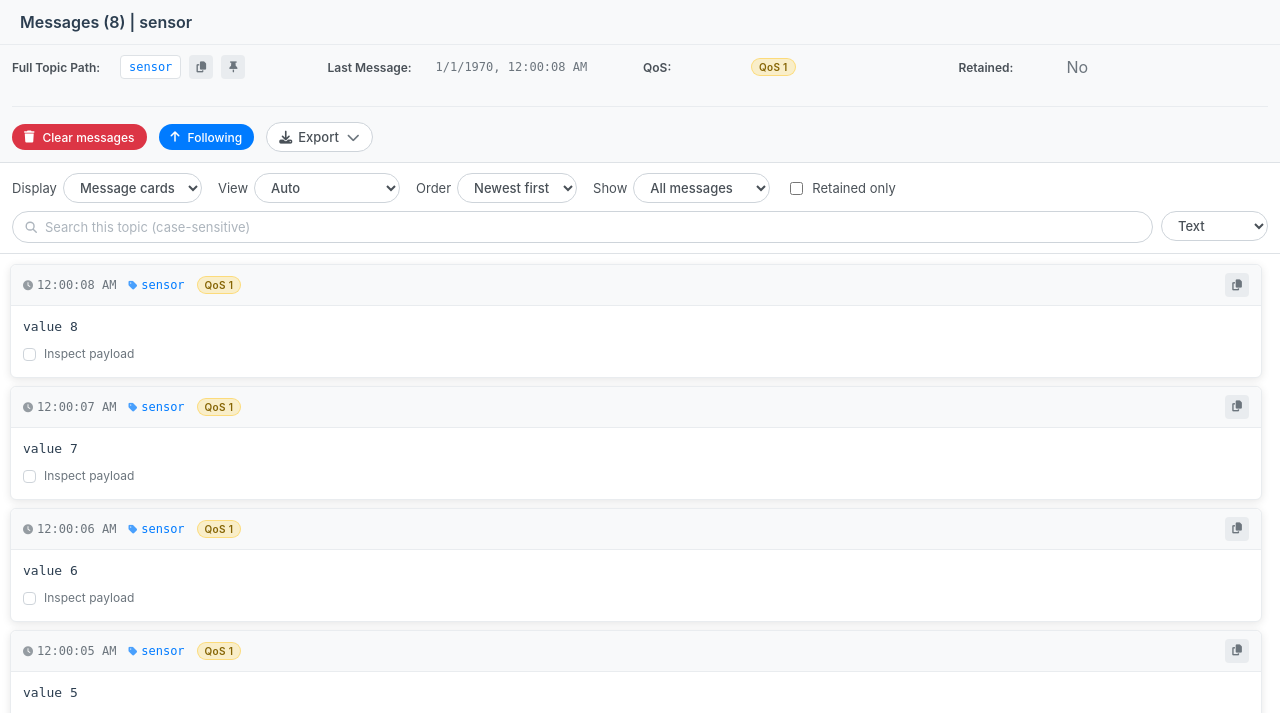
Test: clears cached and stored messages and starts the list over
Click the button with class "btn-danger": (79, 137) x1=12 y1=124 x2=146 y2=150
Wait 1000 ms
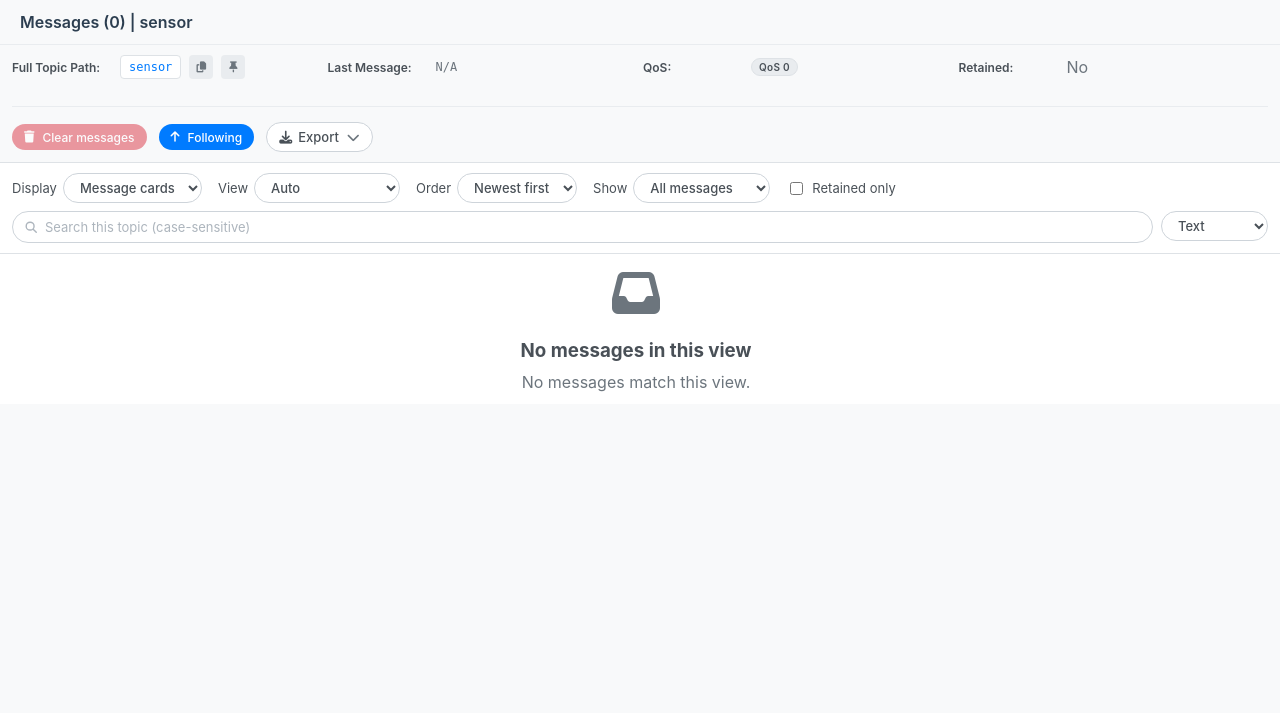
Check: the heading "Messages (0) | sensor" is shown, box x1=20 y1=12 x2=192 y2=32
